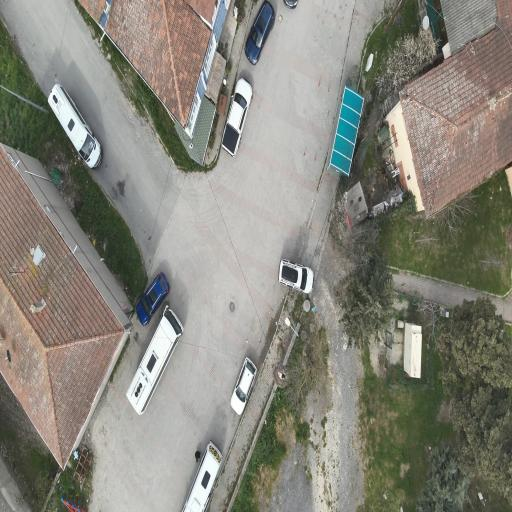car: (126, 306, 183, 414), (48, 84, 101, 167), (182, 441, 223, 512), (222, 78, 252, 155), (245, 0, 275, 63), (136, 272, 169, 325), (231, 357, 256, 413), (279, 259, 313, 292), (284, 0, 297, 8)
person: (195, 450, 200, 461)
